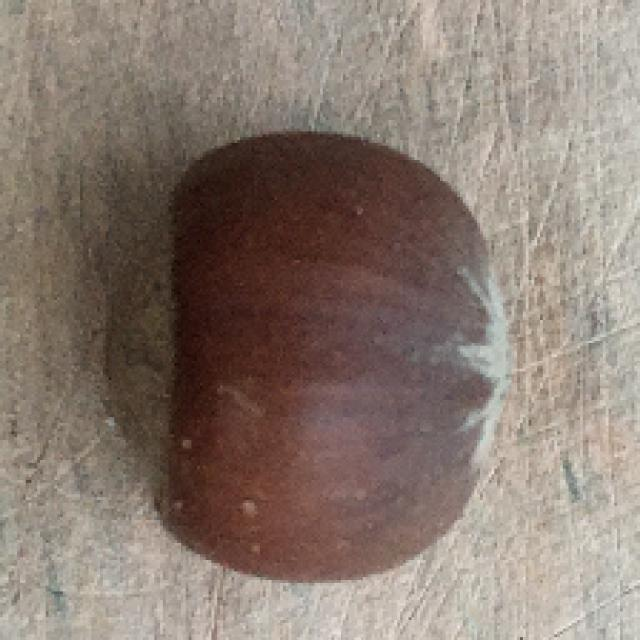qualityHazelnut: (101, 124, 509, 584)
